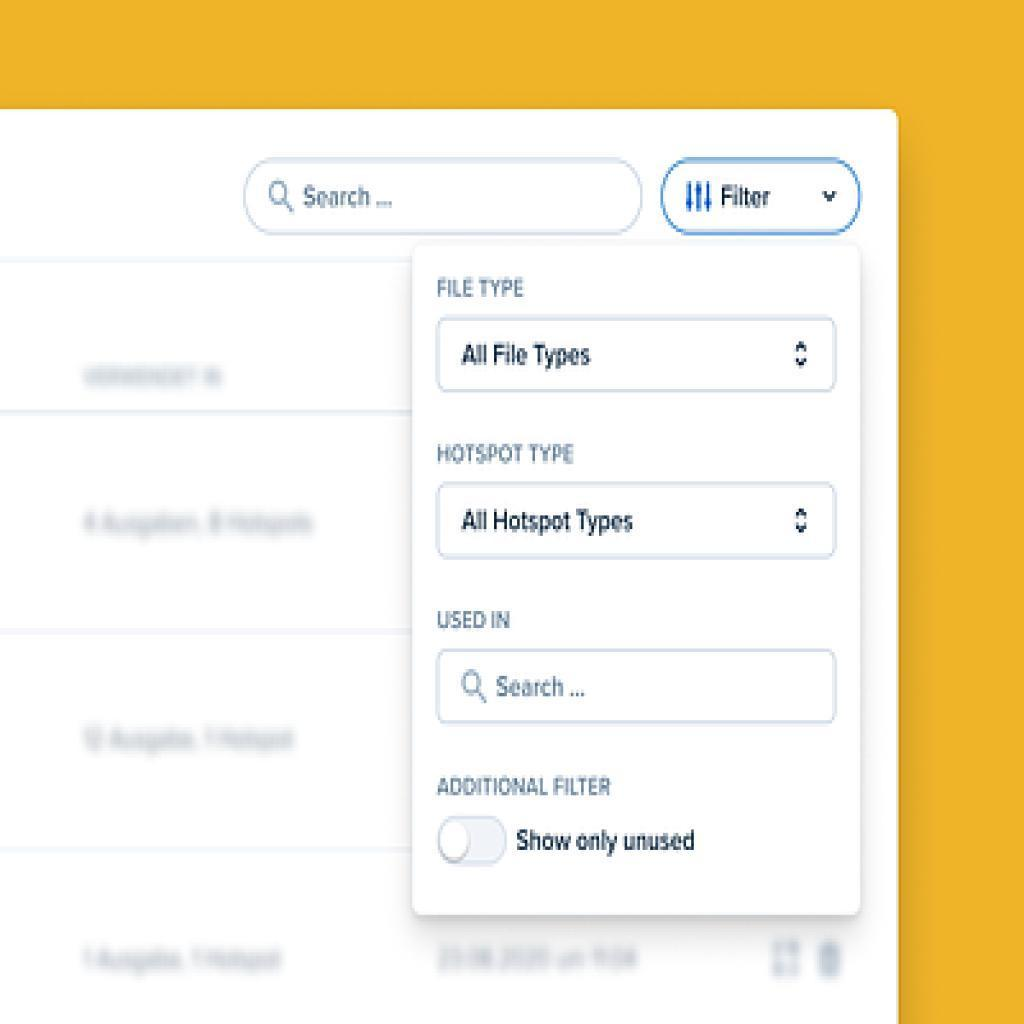dropdown: (438, 482, 838, 557), (439, 318, 836, 393), (661, 157, 860, 236)
icon: (454, 658, 492, 715)
input: (242, 156, 643, 236), (435, 649, 836, 727)
switch: (436, 814, 512, 871)
